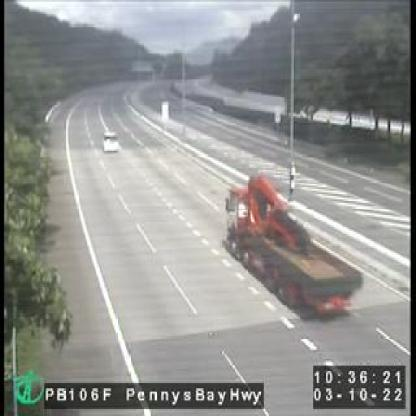Car: (102, 130, 118, 151)
Truck: (225, 173, 359, 312)
